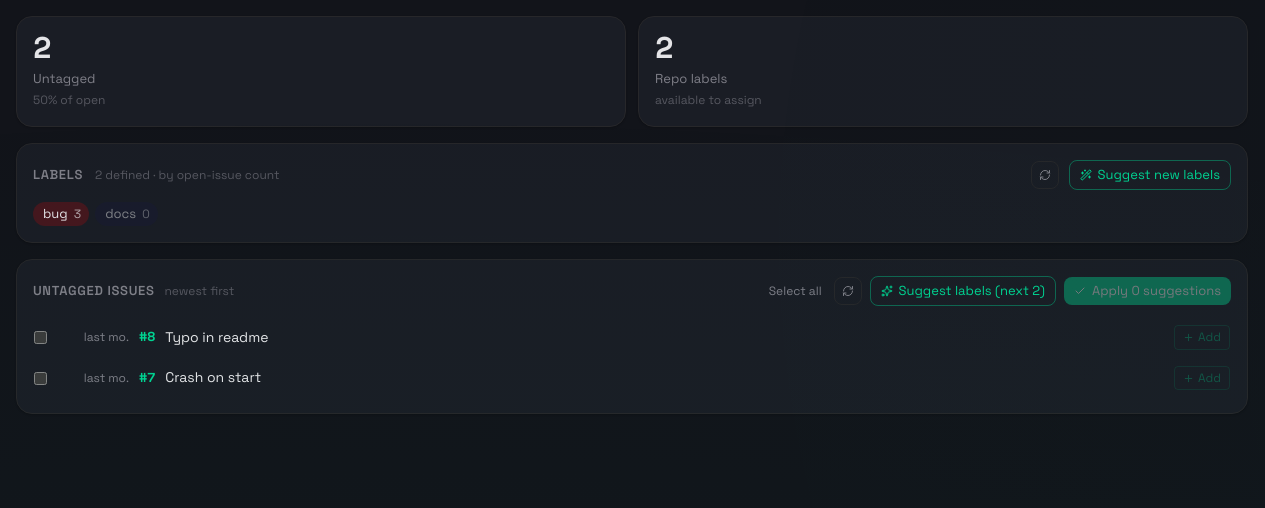
Test case: TaggingView › reports a partial bulk failure instead of claiming success
Expected: the text "Crash on start" is shown, 165,368 -> 261,386
Click the button "Suggest labels (next 2)" at (963, 291), box 870,276 -> 1056,306
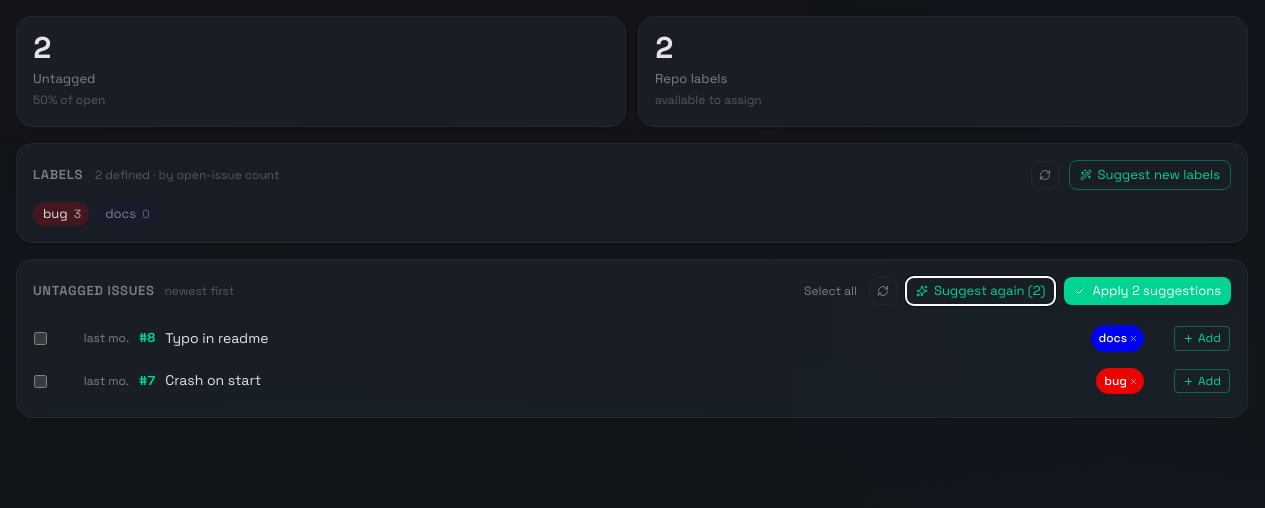
Expected: the button "Apply 2 suggestions" is shown
Click the button "Apply 2 suggestions" at (1148, 291), box 1064,277 -> 1231,305
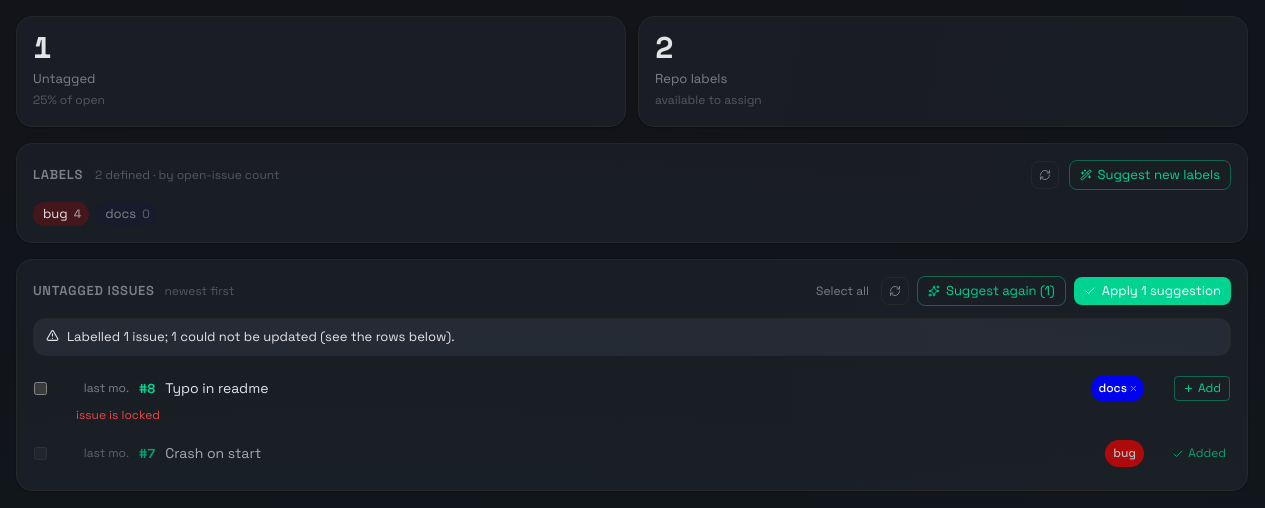
Expected: the text "Typo in readme" is shown, 165,379 -> 268,397
Expected: the text "1 could not be updated" is shown, 67,328 -> 454,345
Expected: the text "issue is locked" is shown, 76,407 -> 160,423
